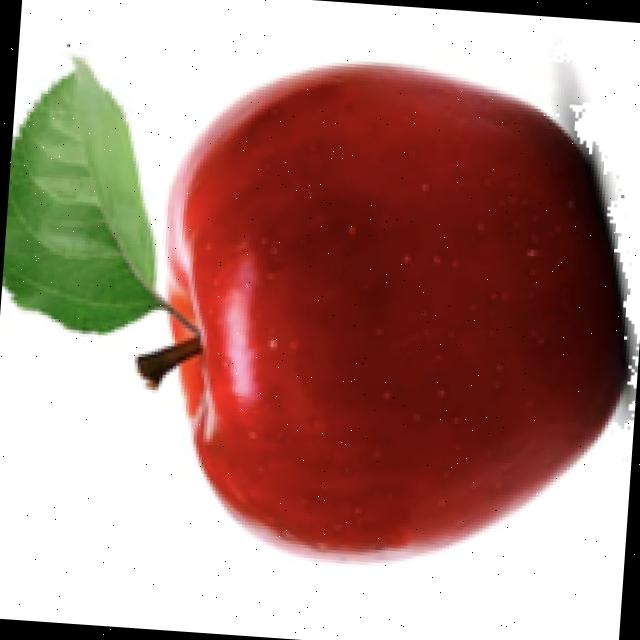apple: (1, 49, 637, 568)
